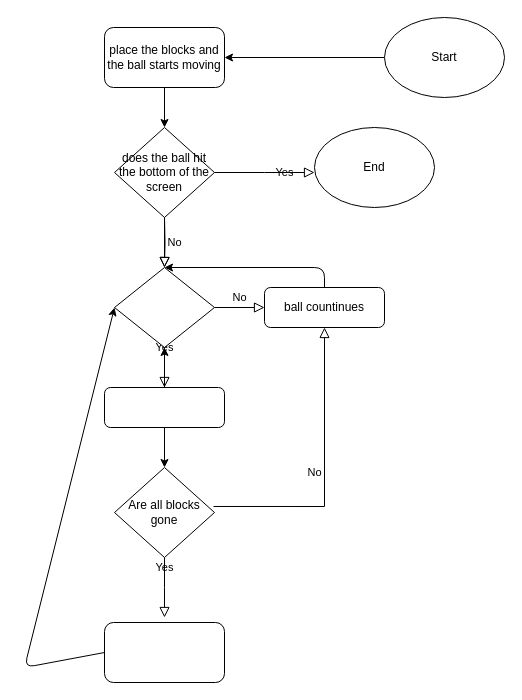
The diagram is 522 pixels wide and 700 high, and some of its shapes have lost their labels. The box of each missing label's shape, as (x1, y1, x2, y2) in pixels:
add score: (104, 386, 224, 428)
hit an object: (114, 266, 214, 348)
Next level, four more objects spawn and the game countinue: (104, 622, 224, 682)
